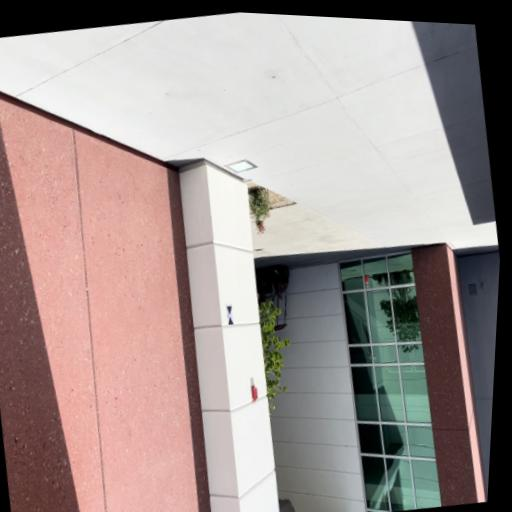target9: (225, 304, 234, 325)
